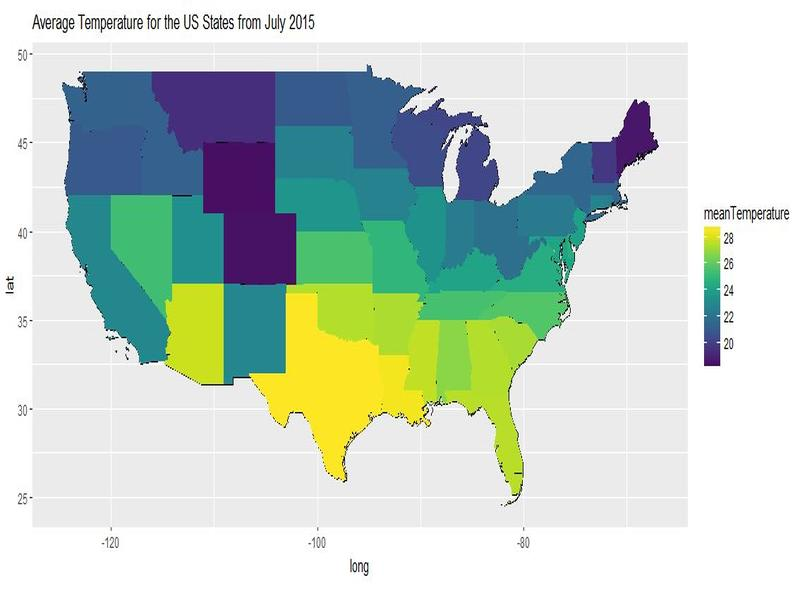legend: (701, 204, 791, 369)
